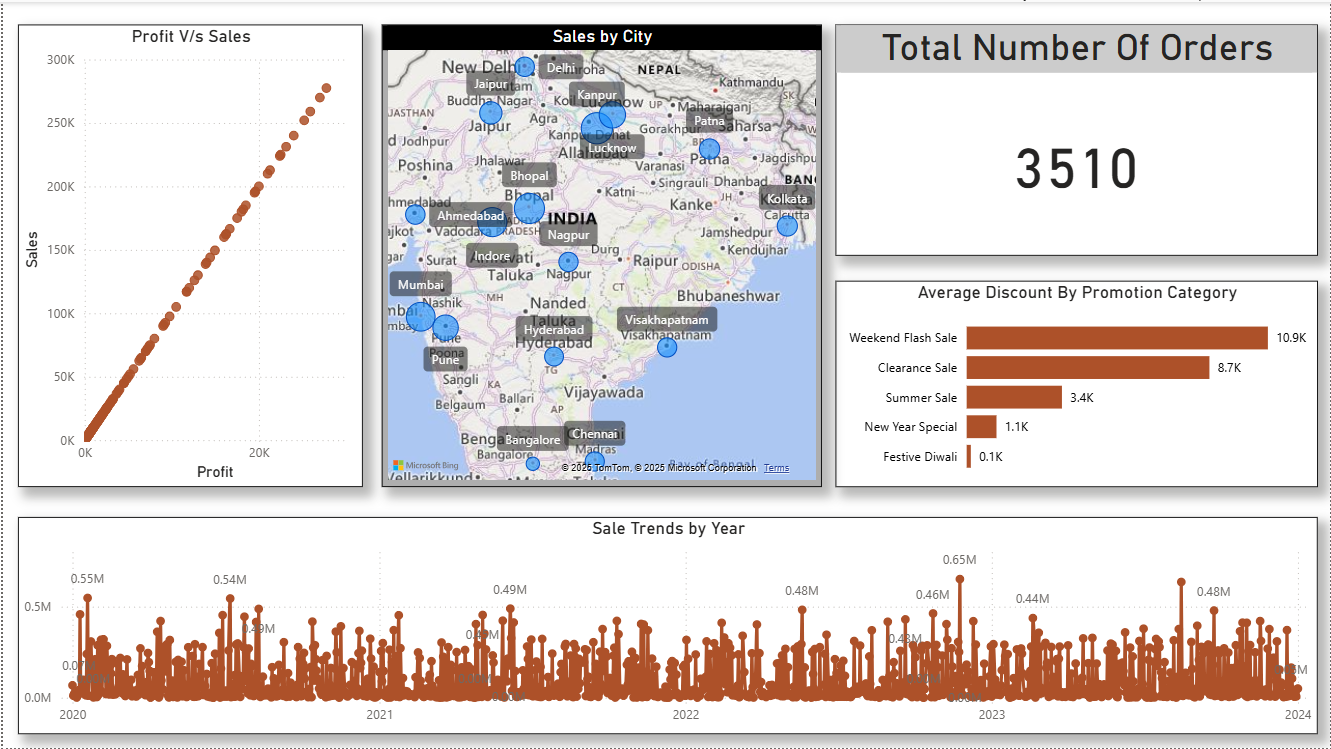

The page's visual inventory and layout, read from the dashboard file:
{"tool":"powerbi","page":{"name":"Sale Trends / Profit V/s Sales / Sales By City / Total Number Of Orders","canvas":[1280,720],"ordinal":1},"visuals":[{"type":"lineChart","title":"Sale Trends by Year","fields":{"Y":["Sum(Fact Table.Net Sales)"],"Category":["Fact Table.Date (dd/mm/yyyy).Variation.Date Hierarchy.Year"]},"box":[14.5,497.1,1254.7,209.9],"z":0},{"type":"scatterChart","title":"Profit V/s Sales ","fields":{"X":["Fact Table.Profit"],"Y":["Fact Table.Net Sales"]},"box":[14.5,21.7,333,446.4],"z":1000},{"type":"barChart","title":"Average Discount By Promotion Category","fields":{"Y":["Avg(Fact Table.Discount Value)"],"Category":["Dim Promotion.Promotion Name"]},"box":[803.5,269,465.7,199.1],"z":2000},{"type":"map","title":"Sales by City","fields":{"Category":["Dim Customers.City"],"Size":["CountNonNull(Fact Table.Total Sales  )"]},"box":[365.6,21.7,424.7,446.4],"z":3000},{"type":"card","title":"Total Number Of Orders","fields":{"Values":["CountNonNull(Fact Table.OrderID)"]},"box":[803.5,21.7,465.7,223.2],"z":4000}]}

Visuals, with their boxes in screenshot pixels (x1, y1, x2, y2), scaled from the page's 1280x720 canvas onto the 1331x749 screenshot:
"Sale Trends by Year" lineChart: (left=15, top=517, right=1320, bottom=735)
"Profit V/s Sales " scatterChart: (left=15, top=23, right=361, bottom=487)
"Average Discount By Promotion Category" barChart: (left=836, top=280, right=1320, bottom=487)
"Sales by City" map: (left=380, top=23, right=822, bottom=487)
"Total Number Of Orders" card: (left=836, top=23, right=1320, bottom=255)
